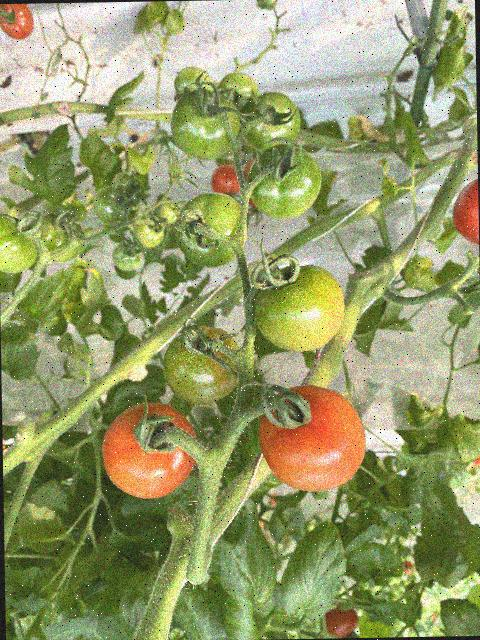l_fully_ripened: (256, 384, 368, 494), (101, 400, 199, 500), (452, 178, 479, 245), (0, 4, 35, 41)
l_green: (253, 265, 346, 352), (161, 324, 243, 405), (244, 144, 322, 220), (173, 191, 247, 267), (169, 87, 241, 162), (239, 91, 301, 152), (30, 213, 86, 264), (216, 72, 260, 128), (0, 212, 39, 273), (173, 66, 217, 101), (90, 186, 126, 225), (131, 215, 165, 248), (112, 241, 141, 272), (110, 172, 136, 199)
